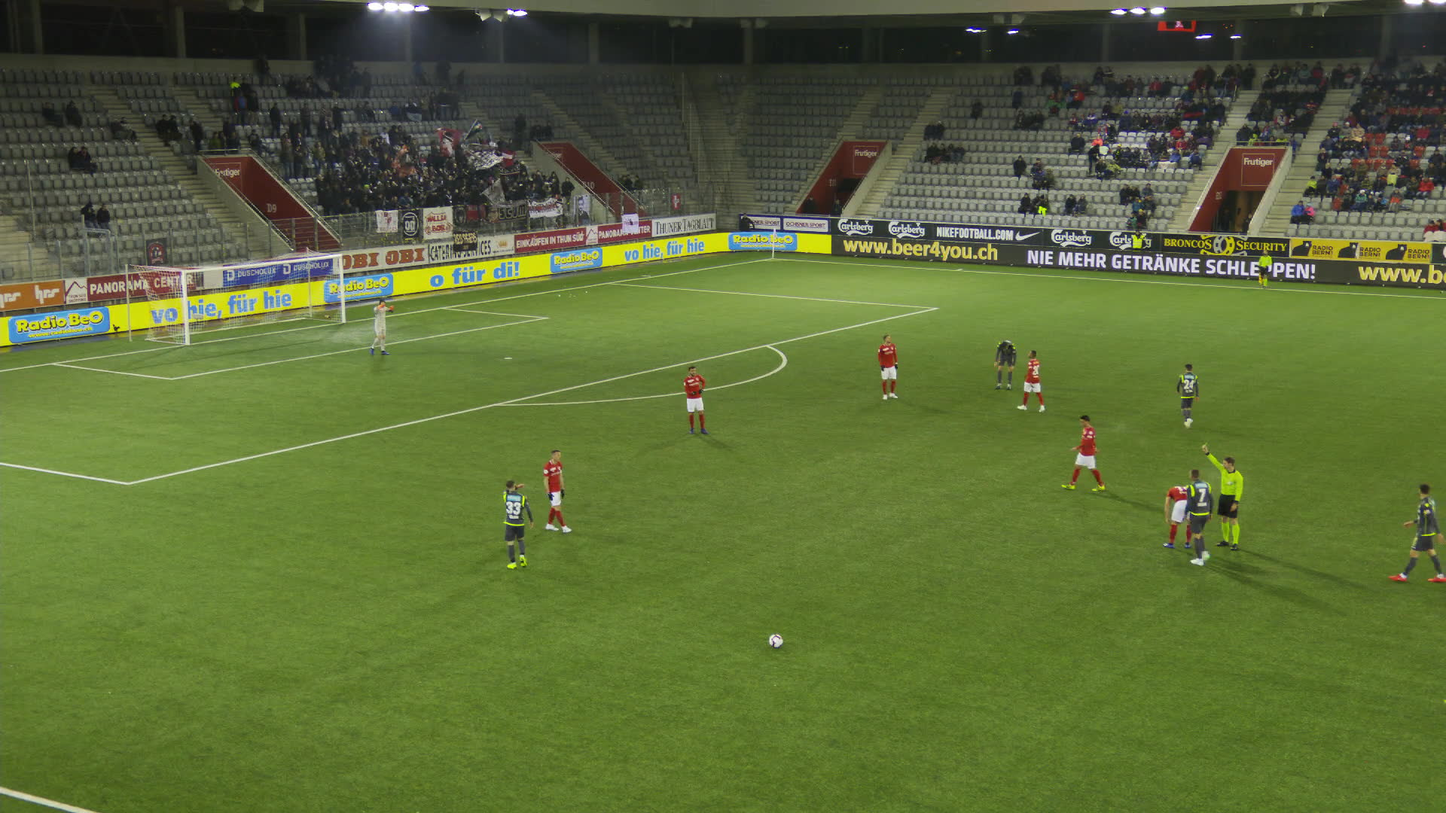ball: (768, 632, 783, 649)
player: (1393, 482, 1445, 586), (1182, 465, 1219, 568), (1066, 412, 1107, 492), (539, 446, 575, 536), (501, 479, 535, 571), (1160, 484, 1194, 549), (681, 363, 709, 435), (1174, 362, 1203, 431), (876, 332, 903, 400), (1017, 348, 1045, 413), (368, 297, 394, 356), (993, 333, 1017, 392)
referee: (1200, 439, 1244, 550), (1256, 247, 1274, 288)
